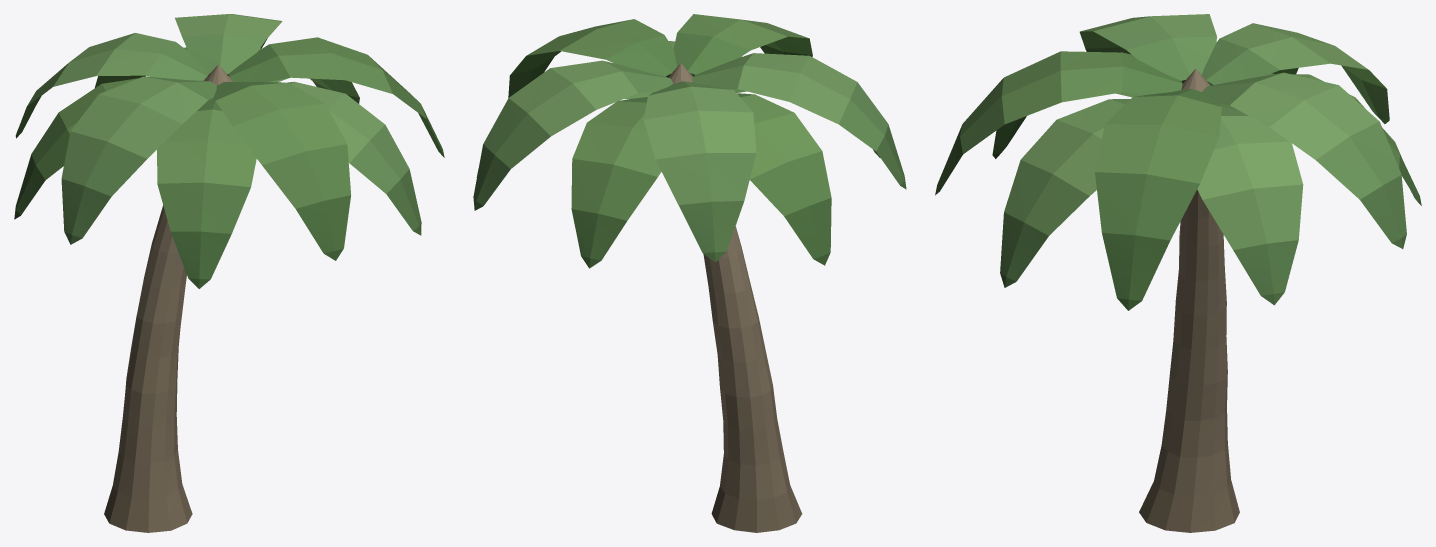
File: Palm_Tree_2.glb
3 renders of one model, left to right at view 1: azimuth 30°, elevation 25°; view 2: azimuth 150°, elevation 25°; view 3: azimuth 270°, elevation 25°, orthographic. The views are drawn at different scales.
Visible parts, largest first — view 1: Palm_Tree_2_Merged; view 2: Palm_Tree_2_Merged; view 3: Palm_Tree_2_Merged.
Boxes of the visible parts, x1,y1,x2,y2 form: Palm_Tree_2_Merged: (14, 14, 444, 532); Palm_Tree_2_Merged: (473, 14, 906, 532); Palm_Tree_2_Merged: (935, 14, 1421, 532).
Bounding box in the file's own units: 3.43 × 3.76 × 3.37.
